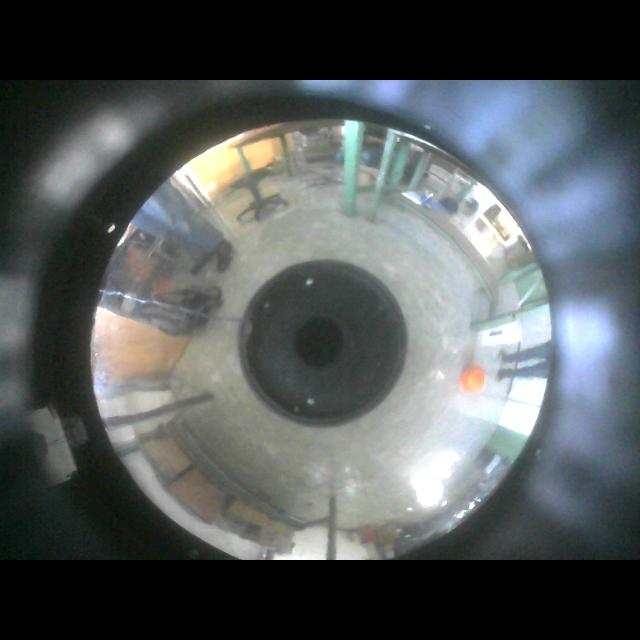bola: (462, 364, 486, 394)
